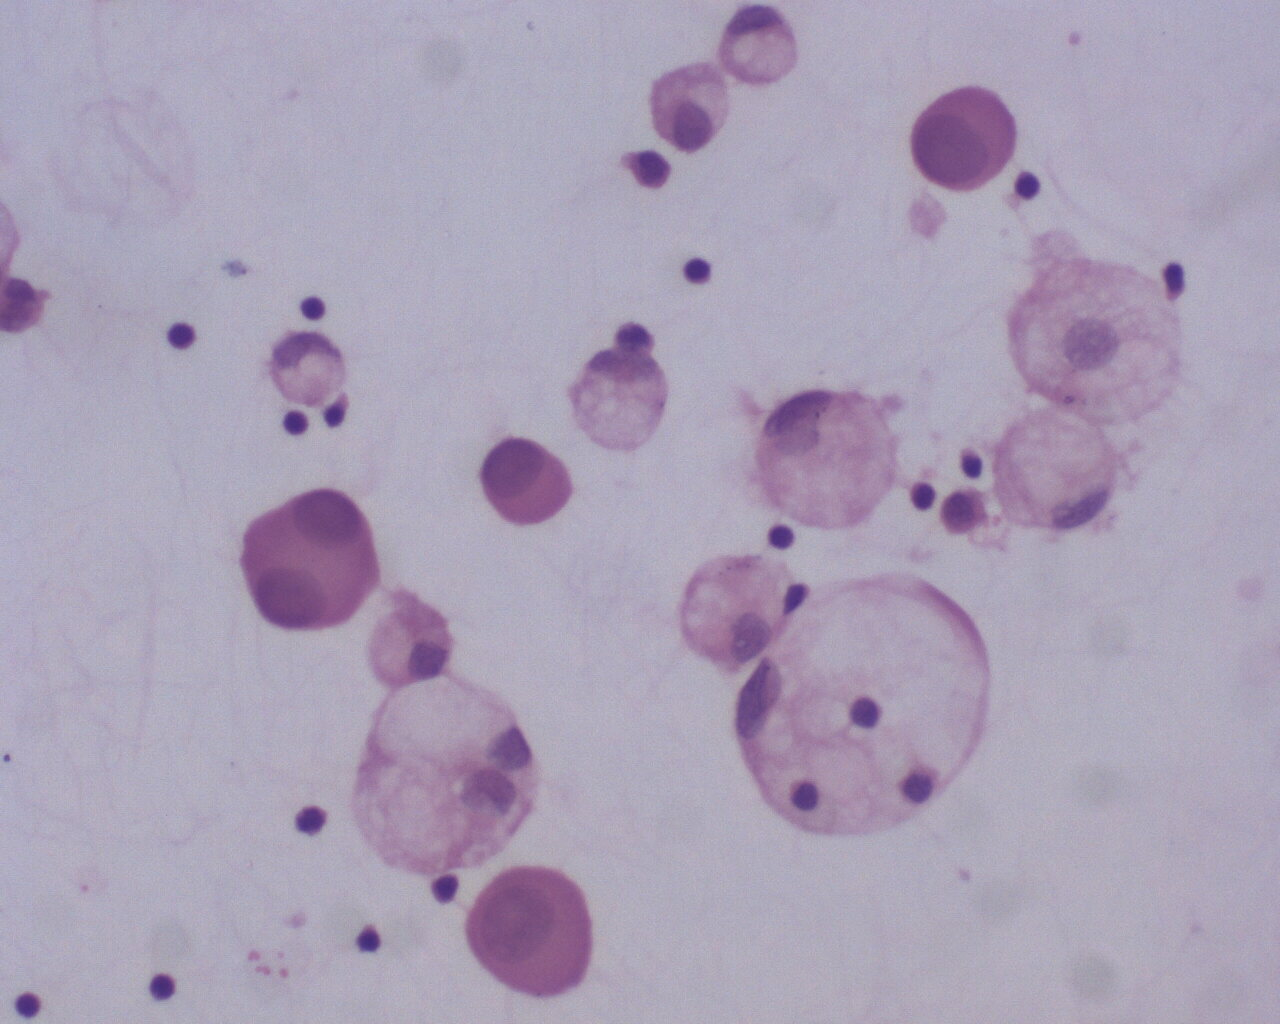ab: (338, 680, 546, 877), (470, 866, 604, 1007), (907, 82, 1017, 196), (564, 346, 673, 452), (475, 434, 577, 530)
histo: (734, 562, 998, 839), (757, 387, 901, 534), (669, 550, 798, 670), (991, 408, 1113, 531), (263, 324, 354, 406), (720, 4, 799, 91)
lymph: (157, 316, 208, 358), (676, 252, 722, 294), (145, 968, 185, 1007)
